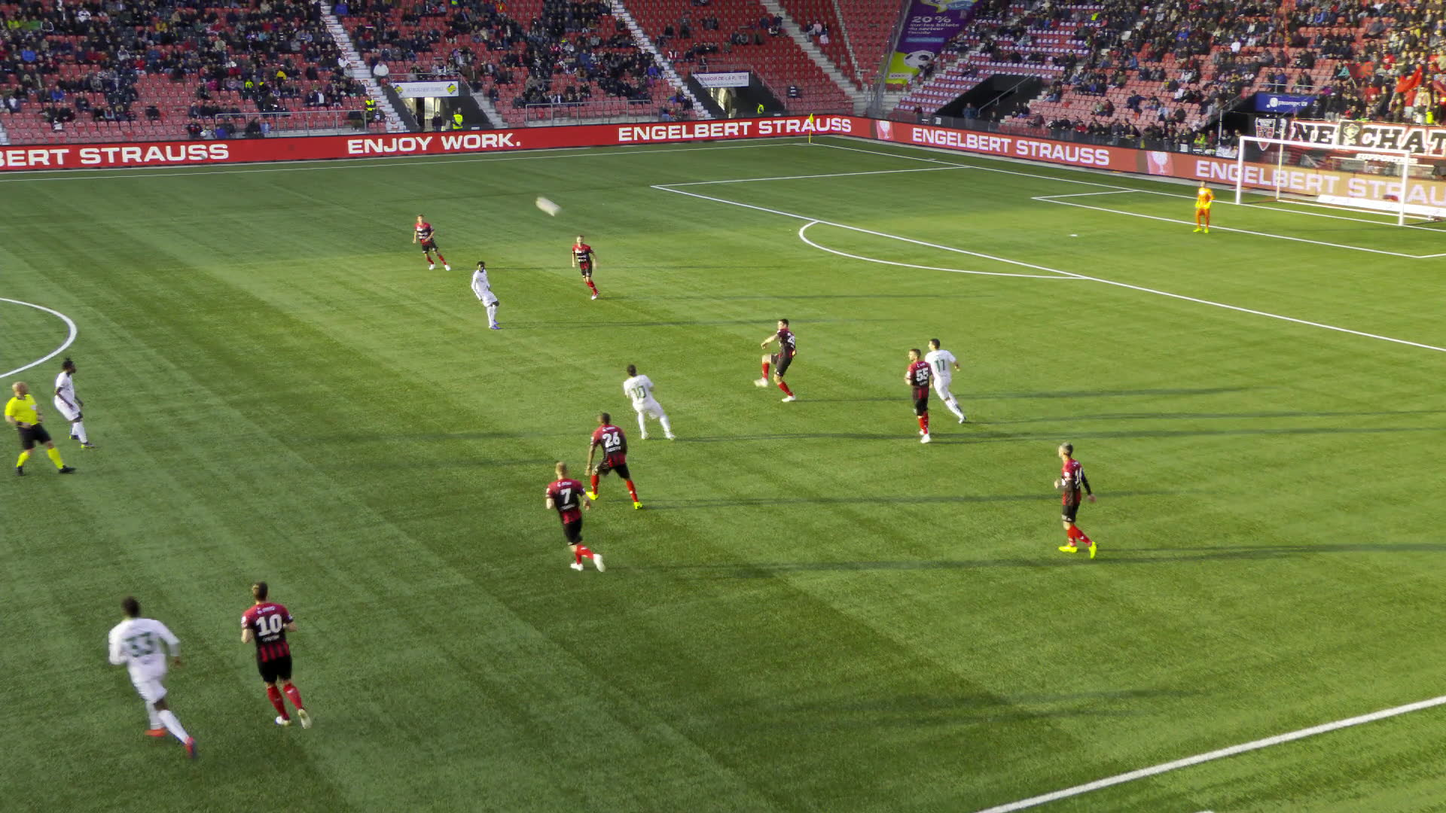ball: (536, 196, 555, 214)
player: (107, 595, 201, 753), (243, 580, 313, 729), (551, 463, 604, 572), (588, 409, 645, 507), (1054, 441, 1097, 557), (621, 362, 671, 440), (751, 318, 797, 401), (56, 352, 96, 445), (926, 337, 965, 423), (904, 347, 936, 441), (470, 259, 502, 327), (416, 212, 451, 269), (572, 234, 601, 297), (1192, 179, 1213, 233)
referee: (11, 379, 75, 474)
